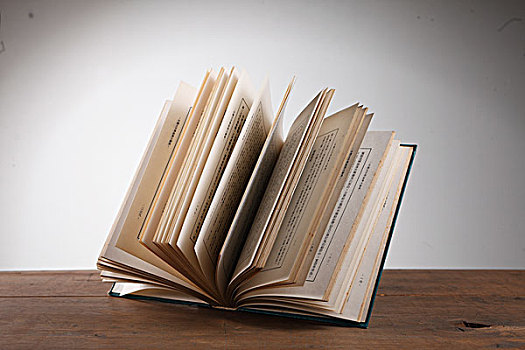book: (95, 63, 420, 329)
